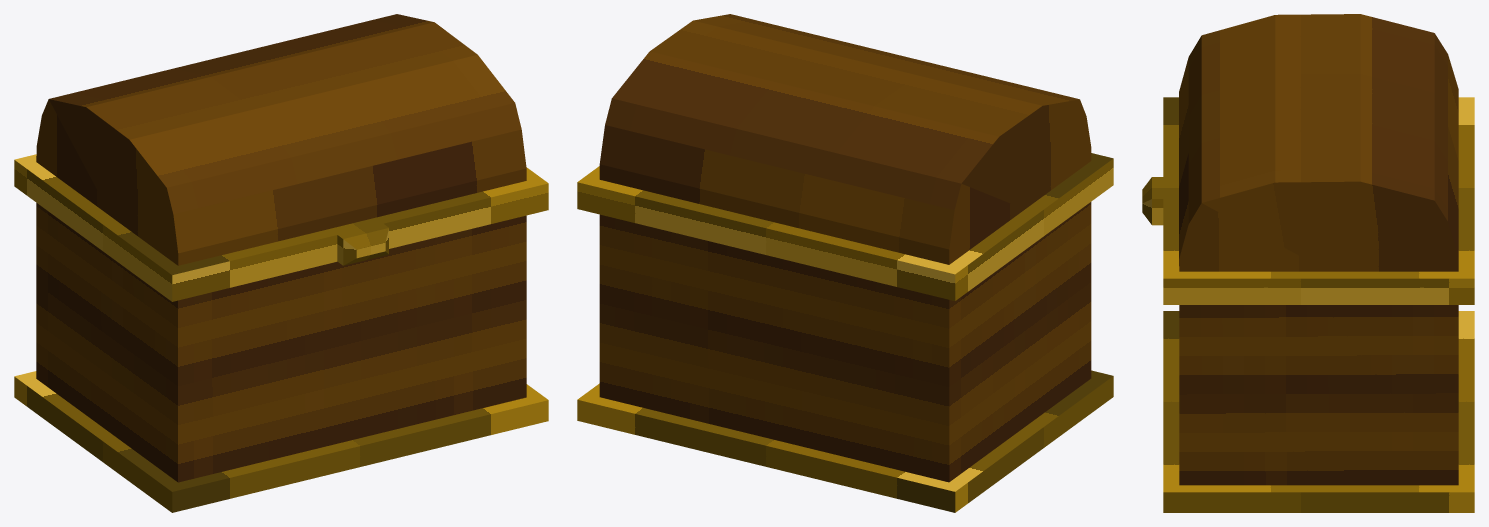
The model's file is Chest (1).fbx.
3 renders of one model, left to right at view 1: azimuth 30°, elevation 25°; view 2: azimuth 150°, elevation 25°; view 3: azimuth 270°, elevation 25°, orthographic.
Parts seen in each view (by area): view 1: chest bot, chest top; view 2: chest bot, chest top; view 3: chest bot, chest top.
Boxes of the visible parts, x1,y1,x2,y2 form: chest bot: (14, 154, 548, 512); chest top: (36, 14, 526, 265); chest bot: (577, 153, 1113, 512); chest top: (599, 14, 1091, 264); chest bot: (1142, 97, 1474, 512); chest top: (1179, 14, 1458, 271).
Size of the model in its own units: 127 by 106 by 98.4.
Materials: 3 (2 with a texture image).
